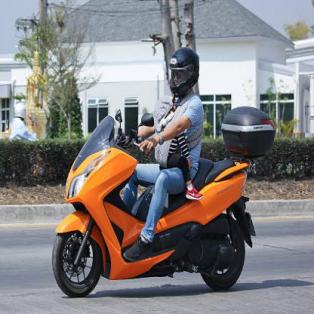Motocicleta: (48, 110, 266, 298)
